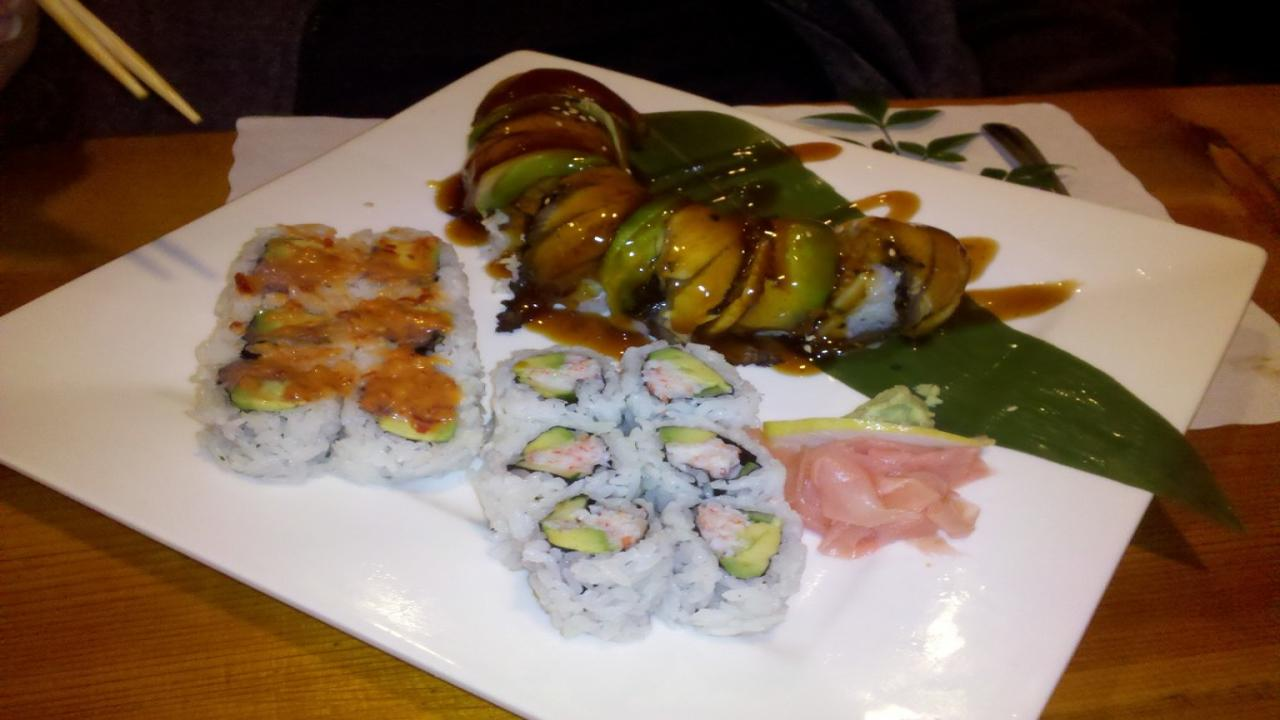chopstick: (29, 0, 210, 129)
